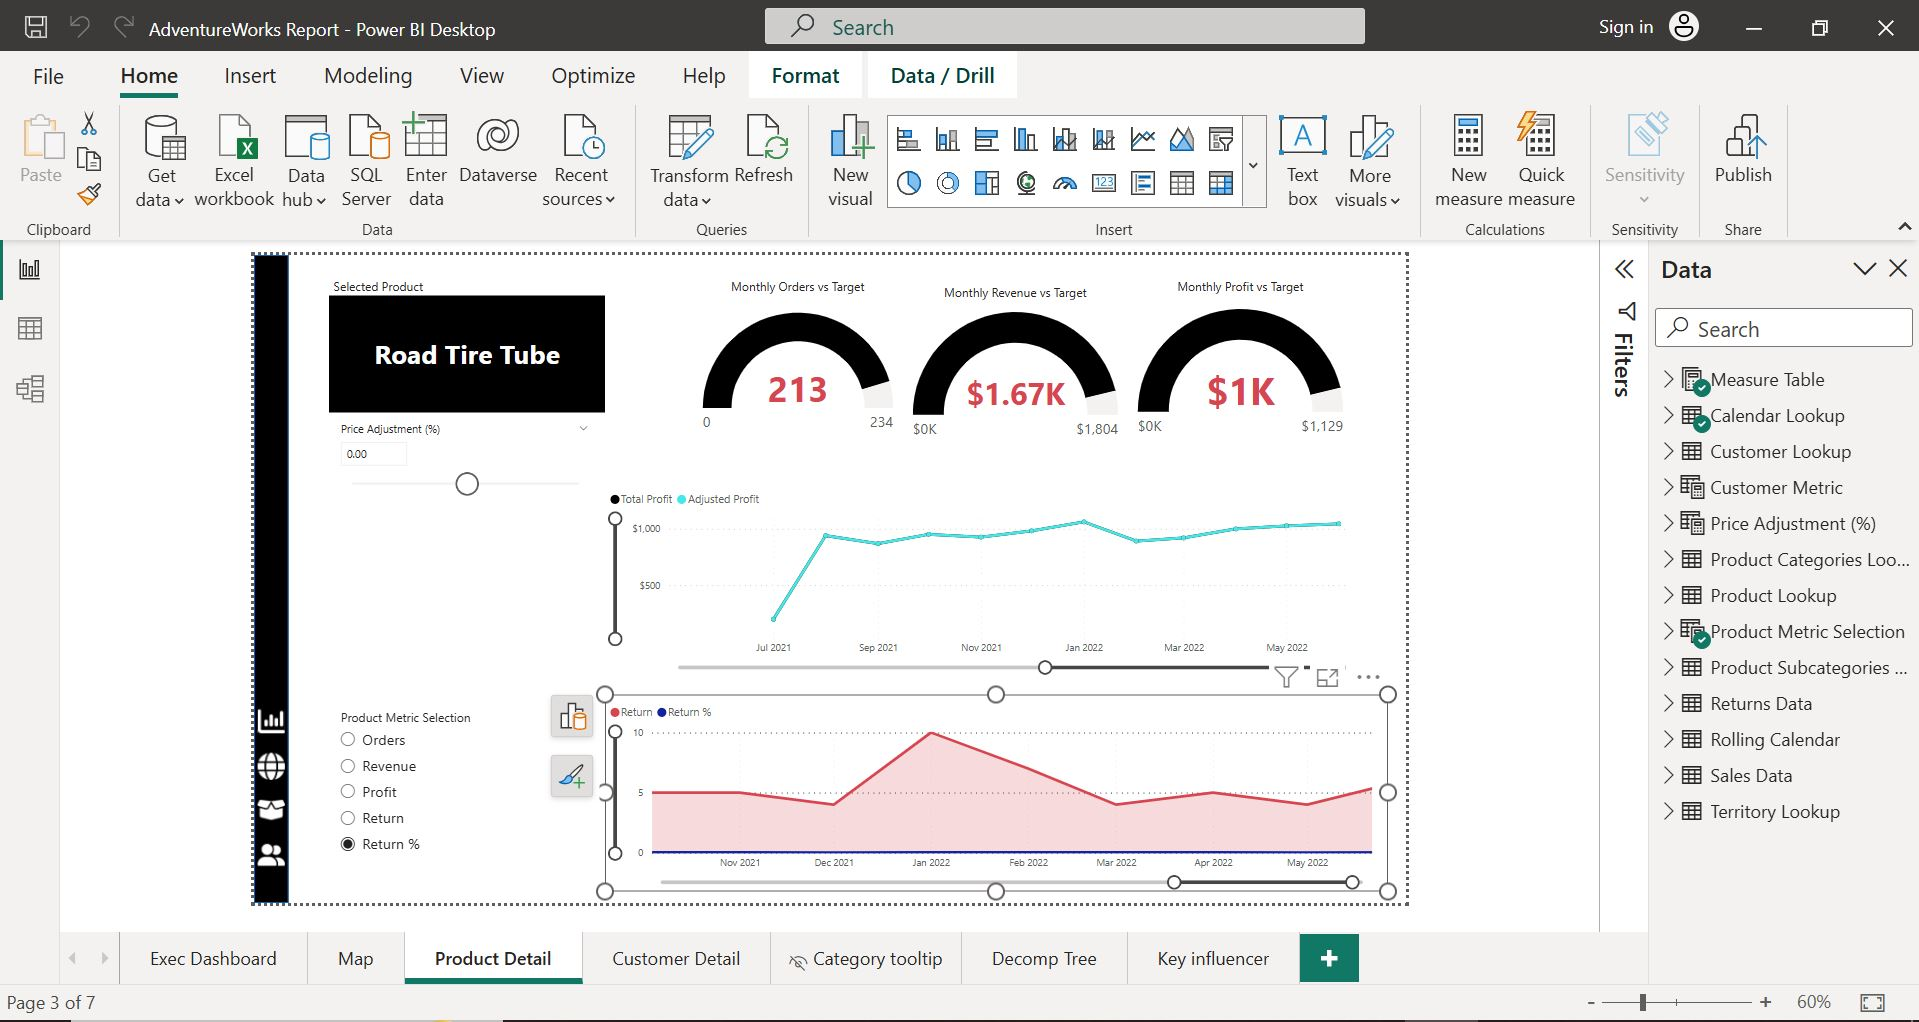

This screenshot's page, from the dashboard's own definition file:
{"tool":"powerbi","page":{"name":"Product Detail","canvas":[1280,720],"ordinal":2},"visuals":[{"type":"shape","box":[0,0,38.3,720],"z":0},{"type":"actionButton","box":[0.8,646.6,38.3,40],"z":0,"group":"g1"},{"type":"gauge","title":"Monthly Orders vs Target","fields":{"Y":["Measure Table.Total Orders"],"MaxValue":["Measure Table.Order Target"]},"box":[493.3,25.6,221.7,196.7],"z":1000},{"type":"actionButton","box":[0.8,597.2,38.3,40],"z":1000,"group":"g1"},{"type":"gauge","title":"Monthly Revenue vs Target","fields":{"Y":["Measure Table.Total Revenue"],"MaxValue":["Measure Table.Revenue Target"]},"box":[726.7,32.2,238.3,190],"z":2000},{"type":"actionButton","box":[0.8,547.7,38.3,40],"z":2000,"group":"g1"},{"type":"actionButton","box":[0.8,498.3,38.3,40],"z":3000,"group":"g1"},{"type":"gauge","title":"Monthly Profit vs Target","fields":{"Y":["Measure Table.Total Profit"],"MaxValue":["Measure Table.Profit Target"]},"box":[976.7,25.6,238.3,196.7],"z":3000},{"type":"lineChart","title":"Weekly Profit","fields":{"Category":["Calendar Lookup.Date Hierarchy.Start of Month"],"Y":["Measure Table.Total Profit","Measure Table.Adjusted Profit"]},"box":[389.4,251.1,844,217.7],"z":4000},{"type":"areaChart","title":"Weekly Returns","fields":{"Y":["Measure Table.Total Return","Measure Table.Return Rate"],"Category":["Calendar Lookup.Date Hierarchy.Start of Month"]},"box":[389.4,487.9,871,219.3],"z":5000},{"type":"textbox","box":[83.3,20,131.7,38.3],"z":6000},{"type":"card","fields":{"Values":["Min(Product Lookup.ProductName)"]},"box":[83.3,45,306.7,130],"z":7000},{"type":"group","id":"g1","title":"Navigation Buttons","box":[0.8,498.3,38.3,188.3],"z":8000},{"type":"slicer","fields":{"Values":["Price Adjustment (%).Price Adjustment (%)"]},"box":[82.6,179.6,300.4,120.8],"z":9000},{"type":"slicer","fields":{"Values":["Product Metric Selection.Product Metric Selection"]},"box":[82.6,499.1,300.4,187.5],"z":10000}]}

Visuals, with their boxes on the page's 1280x720 design canvas (x1, y1, x2, y2). These are canvas units, not pixel positions in the 1919x1022 screenshot, which may show the page scaled, cropped or inside an application window:
shape: [0, 0, 38, 720]
actionButton: [1, 647, 39, 687]
"Monthly Orders vs Target" gauge: [493, 26, 715, 222]
actionButton: [1, 597, 39, 637]
"Monthly Revenue vs Target" gauge: [727, 32, 965, 222]
actionButton: [1, 548, 39, 588]
actionButton: [1, 498, 39, 538]
"Monthly Profit vs Target" gauge: [977, 26, 1215, 222]
"Weekly Profit" lineChart: [389, 251, 1233, 469]
"Weekly Returns" areaChart: [389, 488, 1260, 707]
textbox: [83, 20, 215, 58]
card - Min(Product Lookup.ProductName): [83, 45, 390, 175]
"Navigation Buttons" group: [1, 498, 39, 687]
slicer - Price Adjustment (%).Price Adjustment (%): [83, 180, 383, 300]
slicer - Product Metric Selection.Product Metric Selection: [83, 499, 383, 687]
